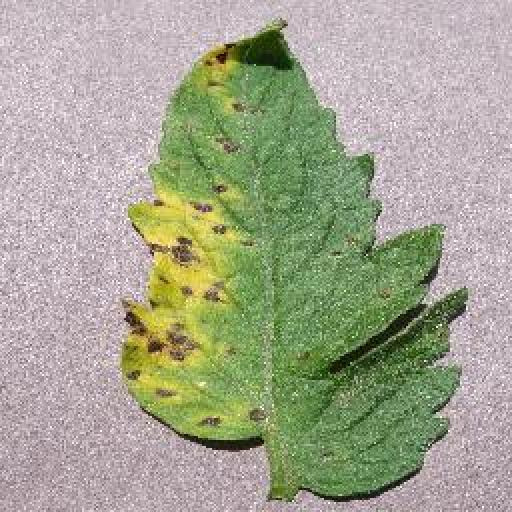Septoria: (119, 18, 470, 502)
